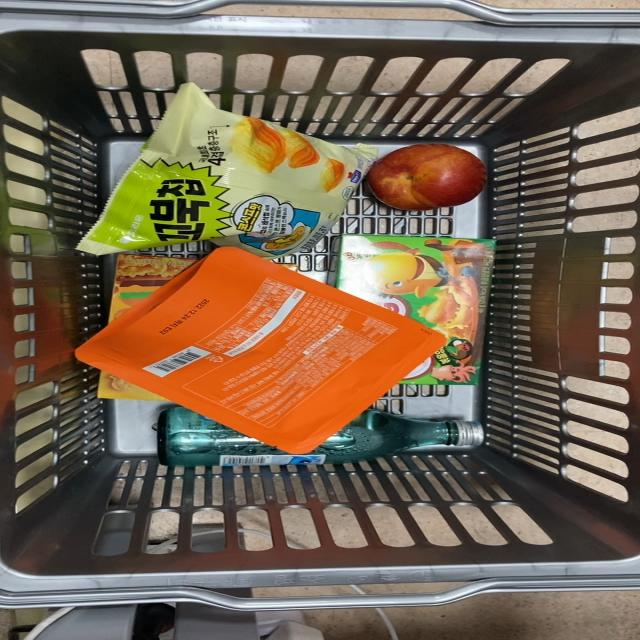cheesebagel: (81, 246, 417, 447)
ggobukchip: (81, 86, 349, 244)
goraebob: (339, 233, 518, 368)
jinro: (155, 396, 495, 470)
plum: (356, 140, 502, 212)
